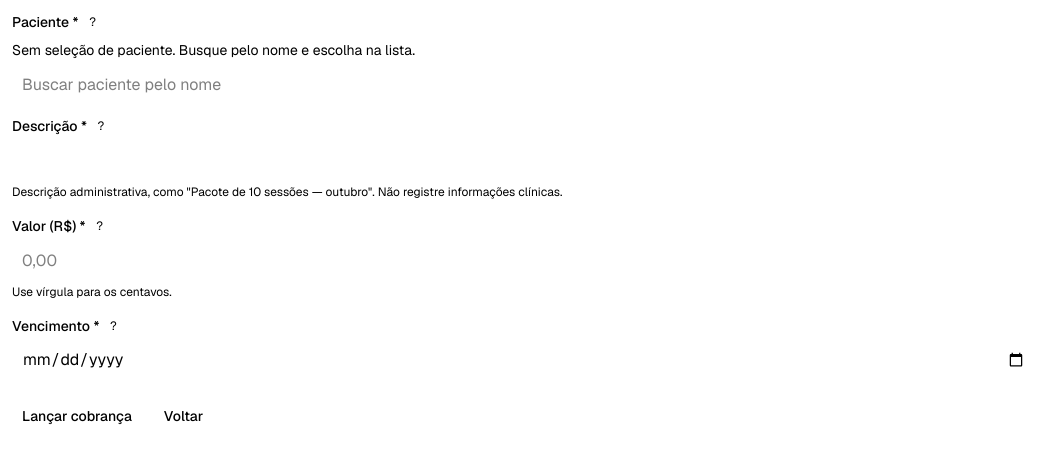
Test: ChargeForm › valor inválido fica como digitado e o erro do servidor aparece ligado ao campo
Type "10,999" into the field labelled "Valor (R$) *" at (524, 260), box [12,244,1036,276]
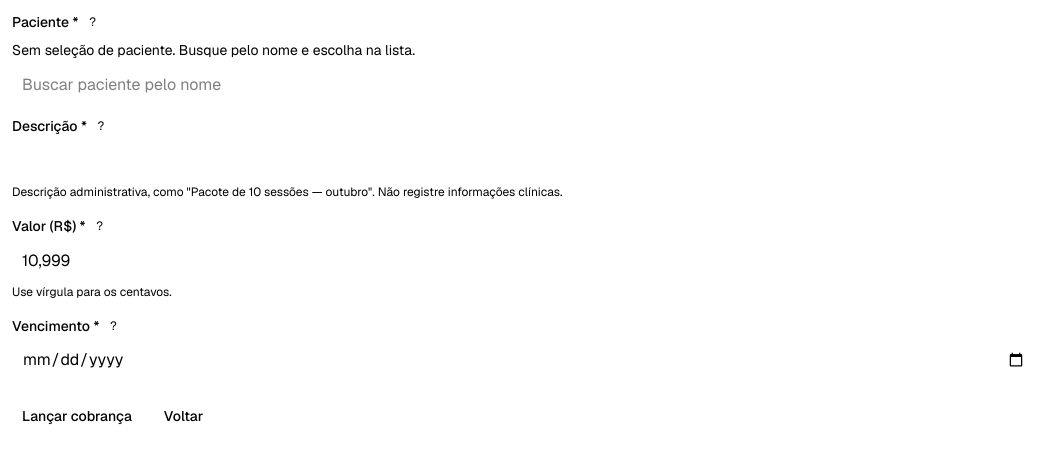
Submit the form named "Valor (R$) *"
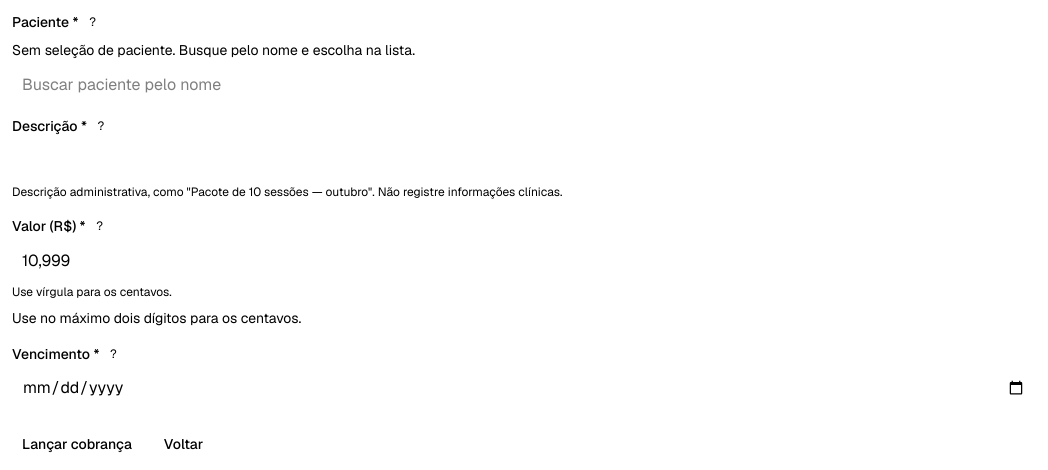
Expected: the text "Use no máximo dois dígitos para os centavos." is shown, [12,309,301,327]
